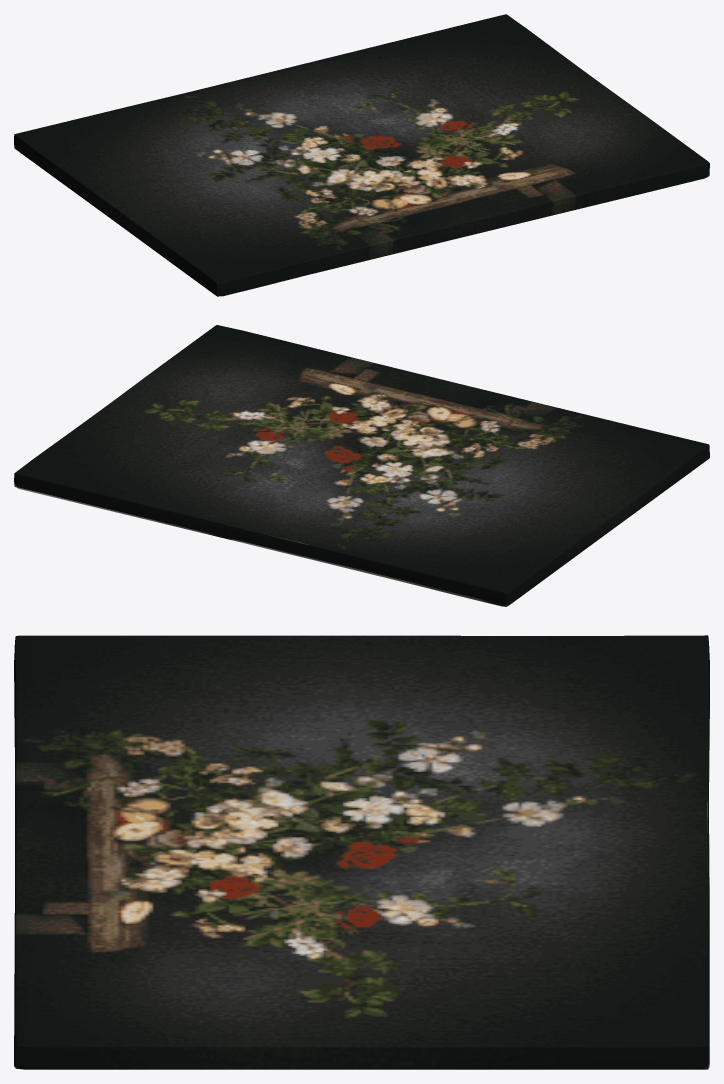
File: picture.glb
The picture shows the model from 3 angles, top to bottom: view 1: azimuth 30°, elevation 25°; view 2: azimuth 150°, elevation 25°; view 3: azimuth 270°, elevation 25°; orthographic projection. The views are drawn at different scales.
Parts seen in each view (by area): view 1: ASY_ART_90578902_S01_NV01; view 2: ASY_ART_90578902_S01_NV01; view 3: ASY_ART_90578902_S01_NV01.
Boxes of the visible parts, x1,y1,x2,y2 form: ASY_ART_90578902_S01_NV01: (14,14,709,296); ASY_ART_90578902_S01_NV01: (14,325,709,606); ASY_ART_90578902_S01_NV01: (14,635,709,1069).
Size of the model in its own units: 0.7021 by 0.022 by 0.5025.
1 material, 1 textured.
